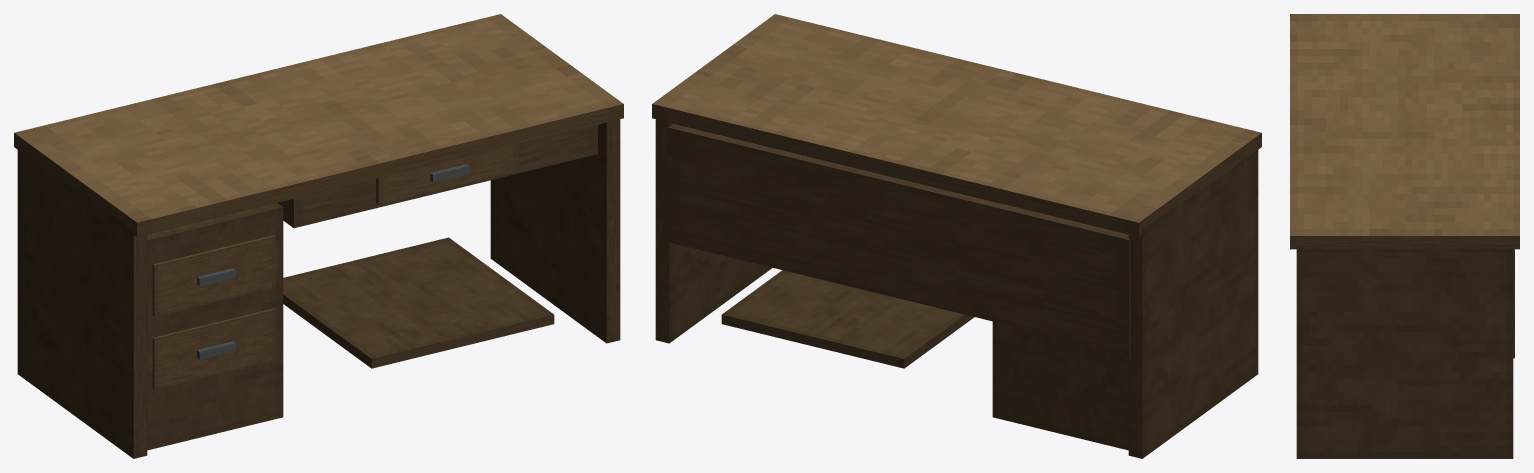
File: desk.glb
3 views of the same model, side by side, from view 1: azimuth 30°, elevation 25°; view 2: azimuth 150°, elevation 25°; view 3: azimuth 270°, elevation 25° (orthographic). The views are drawn at different scales.
Visible parts, largest first — view 1: core_desk; view 2: core_desk; view 3: core_desk.
Part boxes in pixels (box(x1,y1,x2,y2)): core_desk: box(14, 14, 623, 458); core_desk: box(652, 14, 1261, 458); core_desk: box(1290, 14, 1519, 458).
Size of the model in its own units: 1.6 by 0.75 by 0.7.
1 material, 1 textured.
